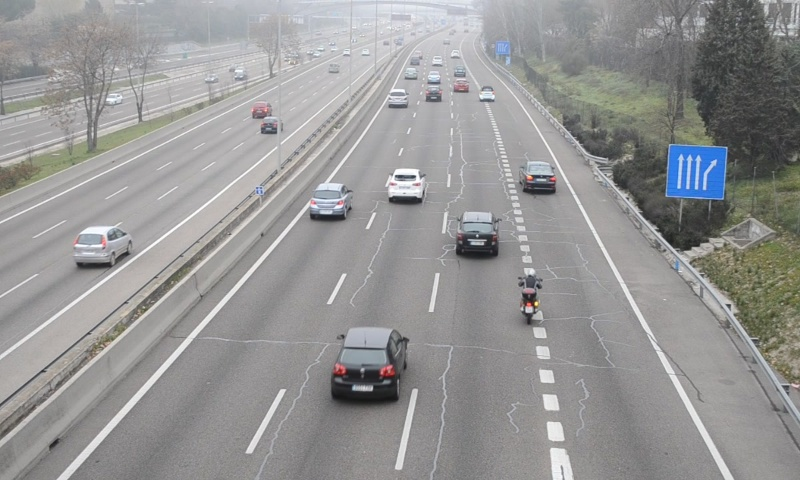car: (331, 328, 407, 400), (455, 212, 498, 256), (309, 182, 350, 217), (387, 168, 426, 201), (519, 161, 558, 192), (387, 88, 408, 108), (478, 84, 494, 102), (426, 85, 442, 102)
motorcycle: (517, 270, 544, 326)
